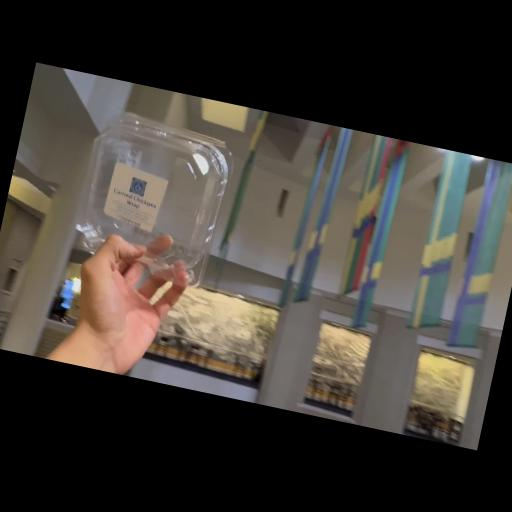small_plastic_container: (58, 101, 252, 301)
